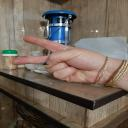PeaceSign: (10, 35, 106, 90)
